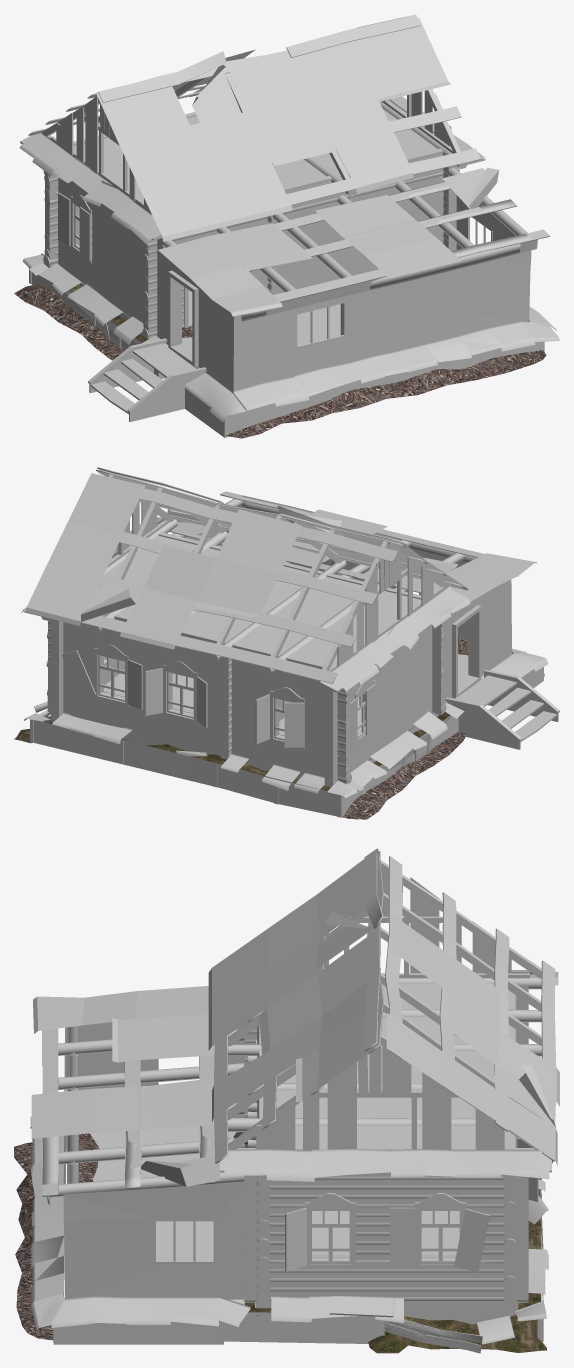
File: SurvivalOldHouse01_model.FBX
3 renders of one model, top to bottom at view 1: azimuth 30°, elevation 25°; view 2: azimuth 150°, elevation 25°; view 3: azimuth 270°, elevation 25°, orthographic. The views are drawn at different scales.
Parts seen in each view (by area): view 1: LOD_02_Metall03, LOD_02_WerandaWood, LOD_01_SrubWood, LOD_01_Obreshetka_stropily, LOD_0_SrubWood, LOD_01_WerandaWood, LOD_0_Metall03, LOD_0_ZavalinkaWood, LOD_01_Metall03, LOD_01_HouseInterior, LOD_02_SrubWood, LOD_0_WerandaWood (+7 smaller); view 2: LOD_02_Metall03, LOD_01_SrubWood, LOD_01_Obreshetka_stropily, LOD_02_SrubWood, LOD_01_HouseInterior, LOD_01_Metall03, LOD_01_WerandaWood, LOD_0_SrubWood, LOD_0_ZavalinkaWood, LOD_01_HouseWindows, LOD_01_ZavalinkaWood, LOD_0_HouseWindows (+10 smaller); view 3: LOD_02_Metall03, LOD_01_Obreshetka_stropily, LOD_0_SrubWood, LOD_01_SrubWood, LOD_01_WerandaWood, LOD_01_Metall03, LOD_02_SrubWood, LOD_0_Metall03, LOD_0_ZavalinkaWood, LOD_02_WerandaWood, LOD_01_HouseWindows, LOD_01_HouseInterior (+9 smaller).
Boxes of the visible parts, left/top/right/bottom form: LOD_02_Metall03: left=21, top=18, right=558, bottom=407; LOD_02_WerandaWood: left=91, top=246, right=544, bottom=436; LOD_01_SrubWood: left=45, top=154, right=549, bottom=339; LOD_01_Obreshetka_stropily: left=20, top=14, right=484, bottom=240; LOD_0_SrubWood: left=43, top=101, right=549, bottom=368; LOD_01_WerandaWood: left=88, top=246, right=531, bottom=437; LOD_0_Metall03: left=19, top=26, right=533, bottom=410; LOD_0_ZavalinkaWood: left=14, top=264, right=546, bottom=438; LOD_01_Metall03: left=23, top=16, right=559, bottom=422; LOD_01_HouseInterior: left=73, top=101, right=442, bottom=202; LOD_02_SrubWood: left=50, top=166, right=537, bottom=332; LOD_0_WerandaWood: left=89, top=195, right=515, bottom=435; LOD_02_Metall03: left=24, top=473, right=545, bottom=795; LOD_01_SrubWood: left=42, top=491, right=484, bottom=785; LOD_01_Obreshetka_stropily: left=24, top=471, right=463, bottom=692; LOD_02_SrubWood: left=42, top=532, right=445, bottom=779; LOD_01_HouseInterior: left=86, top=532, right=421, bottom=735; LOD_01_Metall03: left=21, top=475, right=548, bottom=798; LOD_01_WerandaWood: left=238, top=506, right=559, bottom=749; LOD_0_SrubWood: left=41, top=494, right=518, bottom=787; LOD_0_ZavalinkaWood: left=14, top=638, right=544, bottom=819; LOD_01_HouseWindows: left=62, top=644, right=375, bottom=749; LOD_01_ZavalinkaWood: left=30, top=712, right=458, bottom=817; LOD_0_HouseWindows: left=76, top=644, right=376, bottom=749; LOD_02_Metall03: left=30, top=849, right=556, bottom=1327; LOD_01_Obreshetka_stropily: left=214, top=849, right=558, bottom=1170; LOD_0_SrubWood: left=42, top=977, right=552, bottom=1304; LOD_01_SrubWood: left=42, top=985, right=528, bottom=1305; LOD_01_WerandaWood: left=53, top=1027, right=244, bottom=1344; LOD_01_Metall03: left=30, top=923, right=559, bottom=1331; LOD_02_SrubWood: left=67, top=1026, right=528, bottom=1300; LOD_0_Metall03: left=30, top=911, right=559, bottom=1344; LOD_0_ZavalinkaWood: left=14, top=1132, right=546, bottom=1353; LOD_02_WerandaWood: left=52, top=1055, right=244, bottom=1344; LOD_01_HouseWindows: left=285, top=1137, right=538, bottom=1317; LOD_01_HouseInterior: left=259, top=981, right=513, bottom=1257.
Bounding box in the file's own units: 112 × 66.66 × 104.
